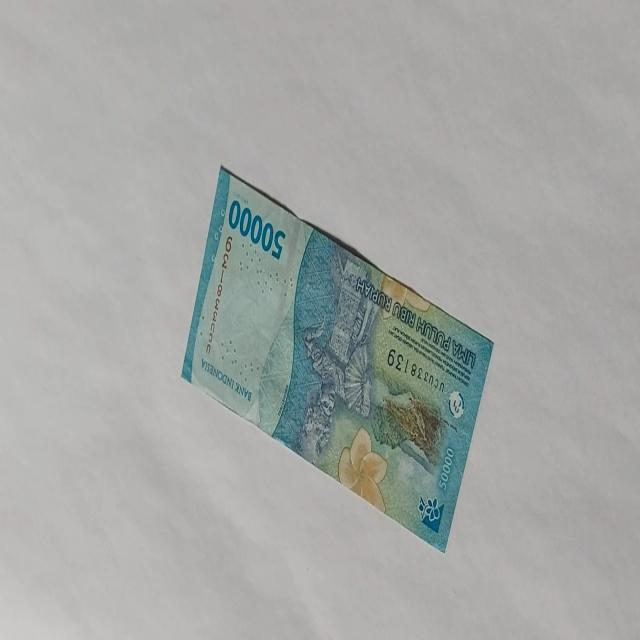lima puluh ribu rupiah: (180, 162, 495, 554), (227, 198, 287, 262)
